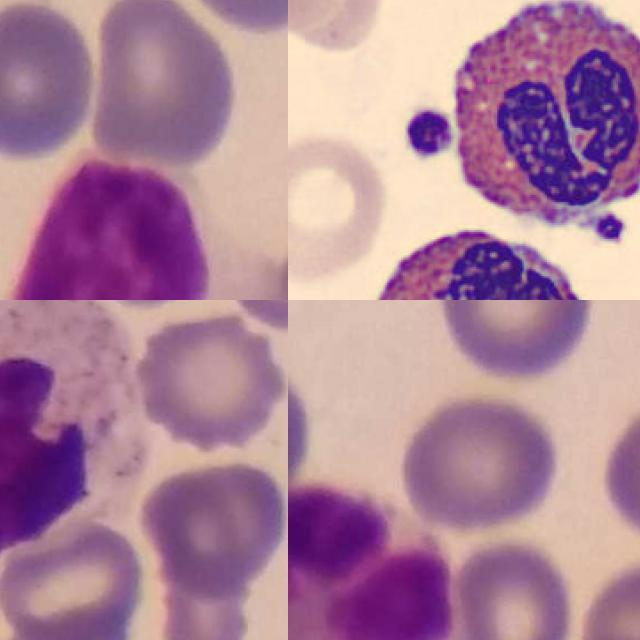Eosinophil: (436, 0, 640, 263), (288, 483, 465, 640), (351, 219, 601, 300)
Lymphocyte: (4, 148, 282, 300)
Neutrophil: (0, 300, 143, 567)
Platelets: (400, 103, 455, 163)
RBC: (288, 127, 390, 288)
